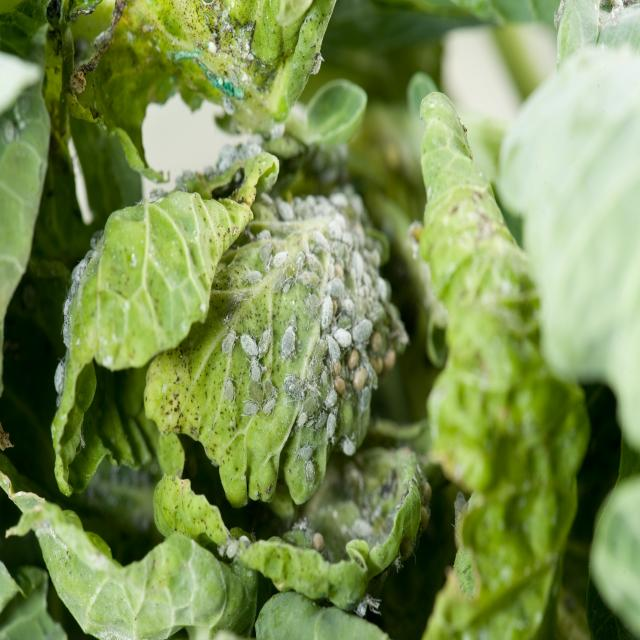Aphid-Grouped-: (205, 173, 398, 466)
